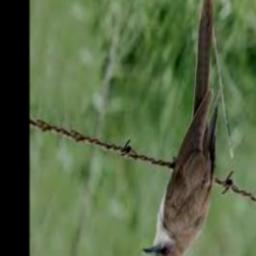Cuckoo: (142, 0, 220, 256)
